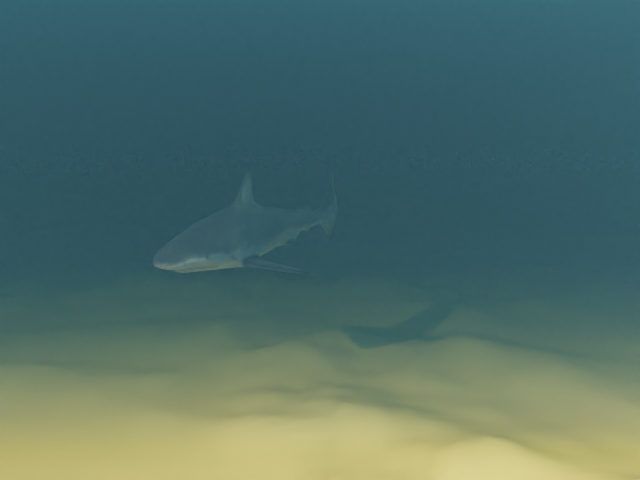Carribean Shark.001: (152, 165, 338, 275)
